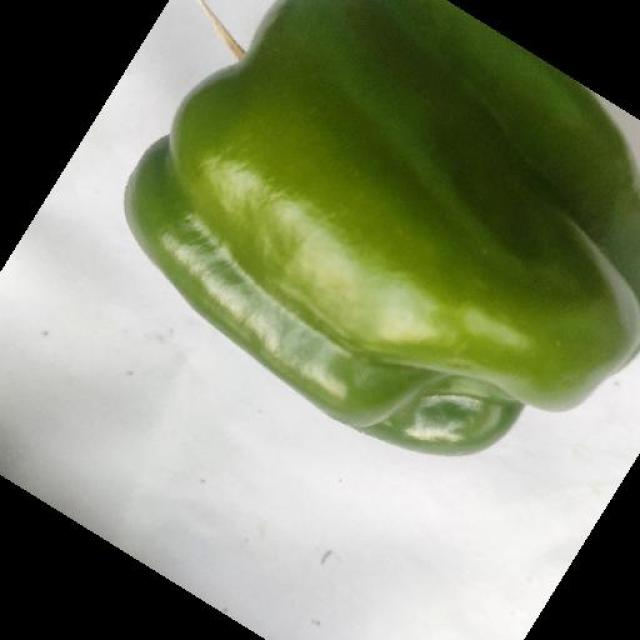Fresh_Capsicum: (202, 0, 634, 456)
